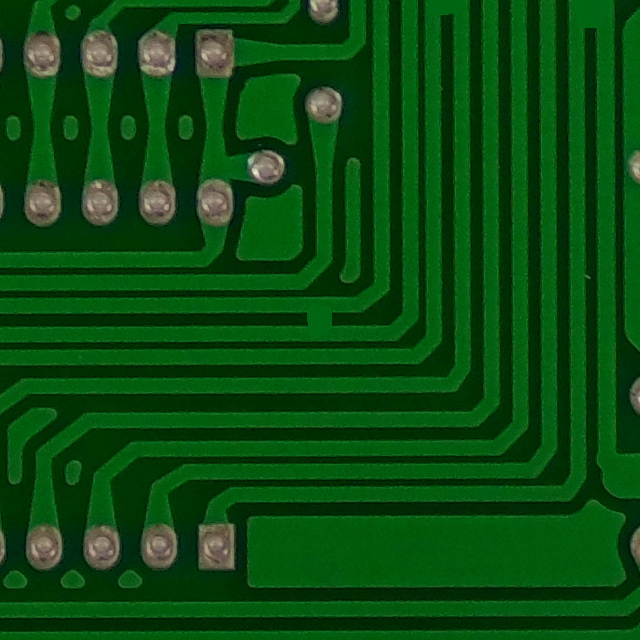short: (281, 290, 359, 351), (561, 0, 629, 41), (415, 0, 476, 31)
